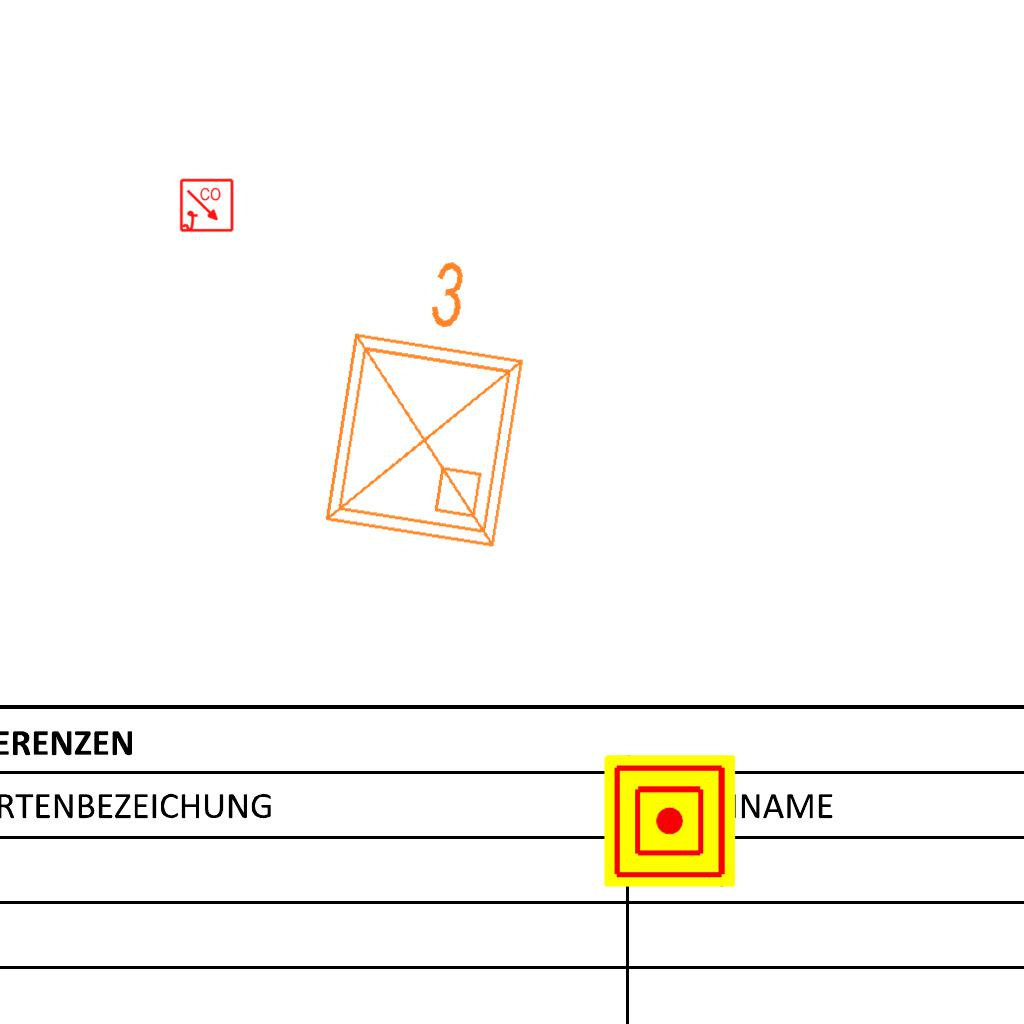Einbaudownlights_LED_Konferenzraeume: (300, 234, 554, 564)
NAM-Nichtautomatischer_Melder: (604, 755, 736, 887)
ROA_Rauchmelder_optisch_mit_Signalgeber_(Sockelsirene): (179, 178, 235, 234)
